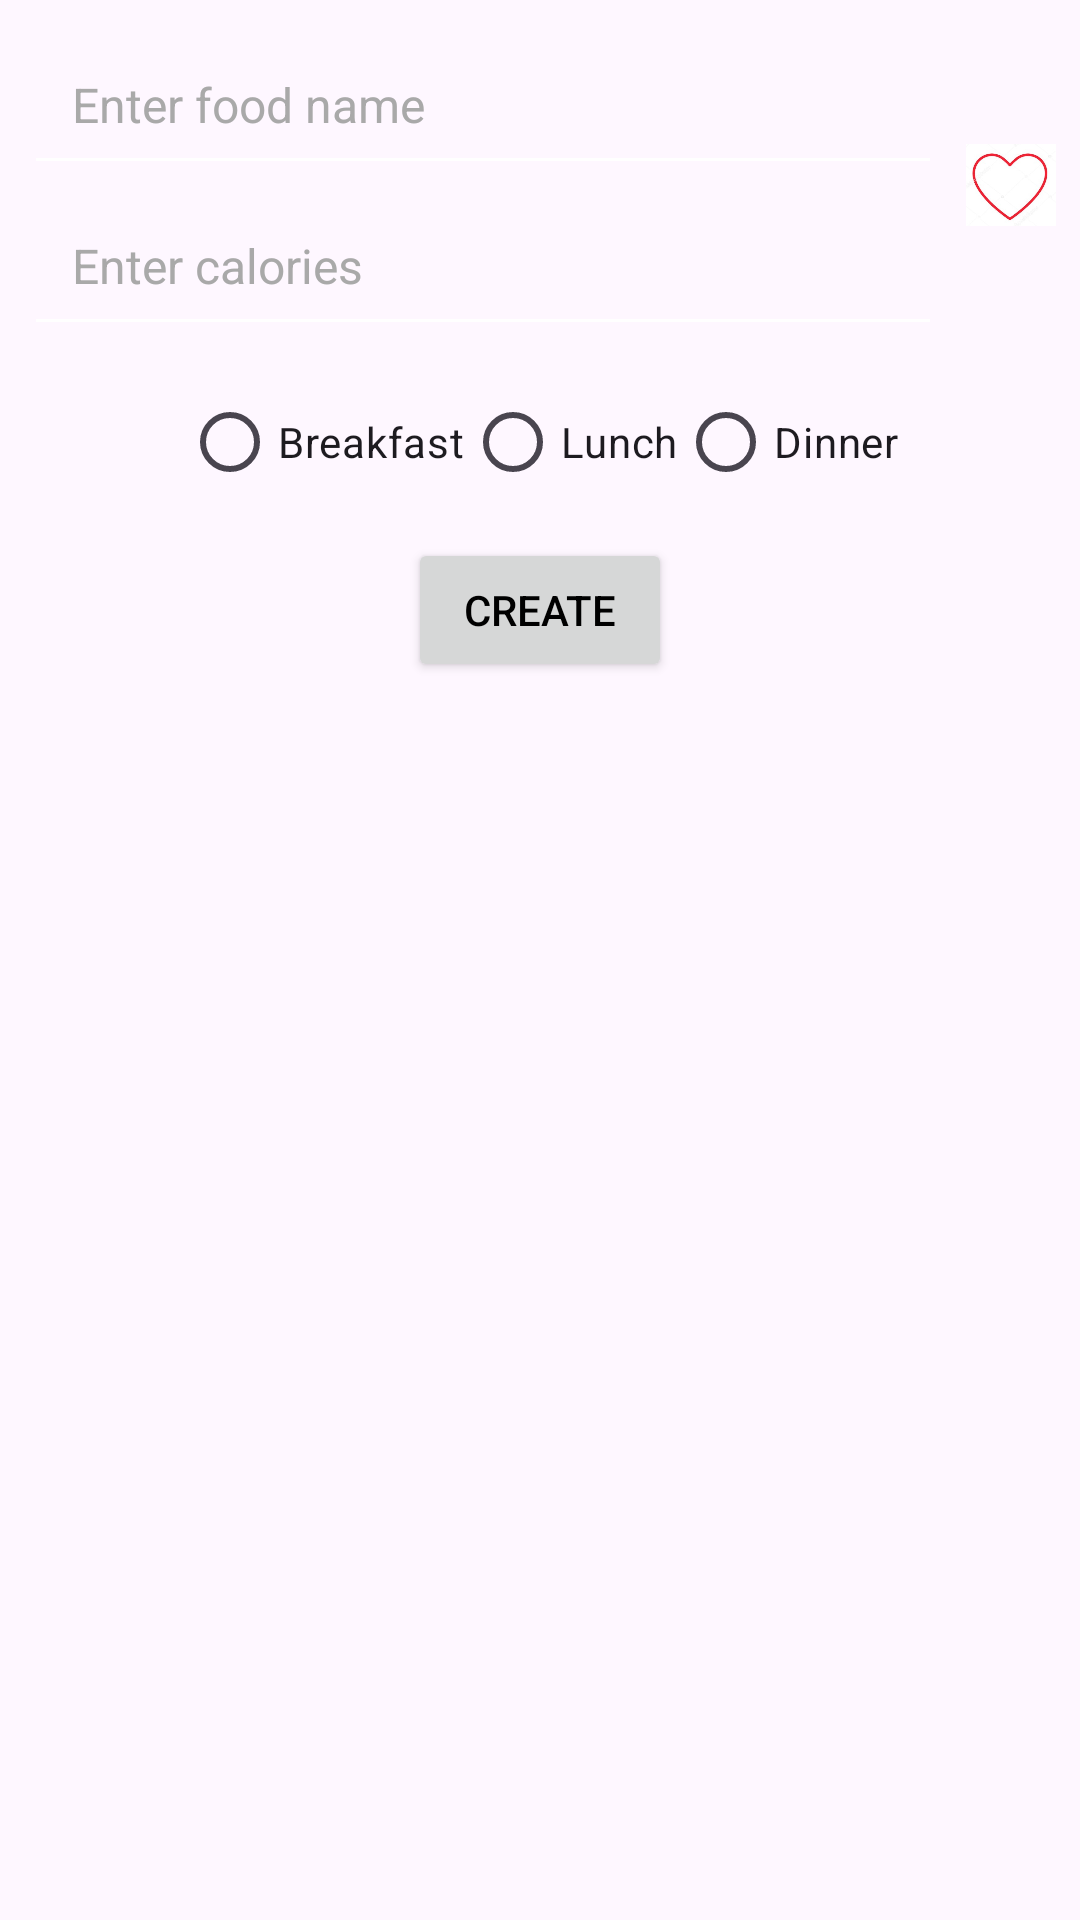

Named icons in this screenshot (1080px x 1920px) and their bounding boxes, (x1, y1, x2, y2):
whitelove: (972, 153, 1048, 220)
